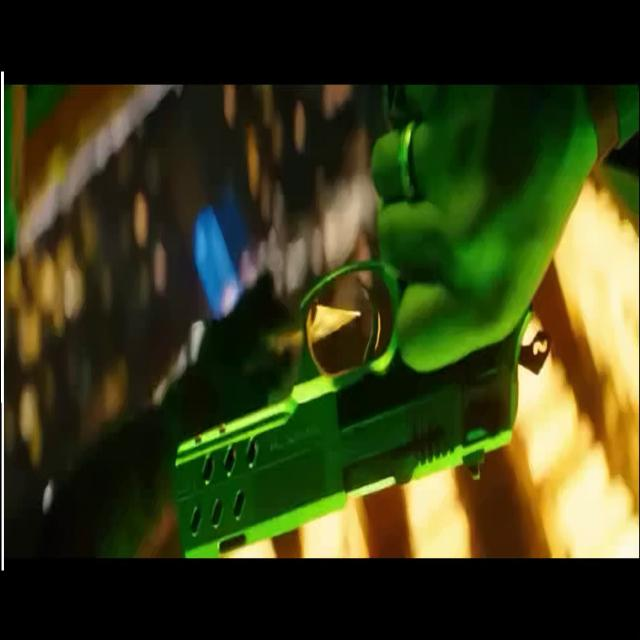weapons: (167, 125, 548, 557)
